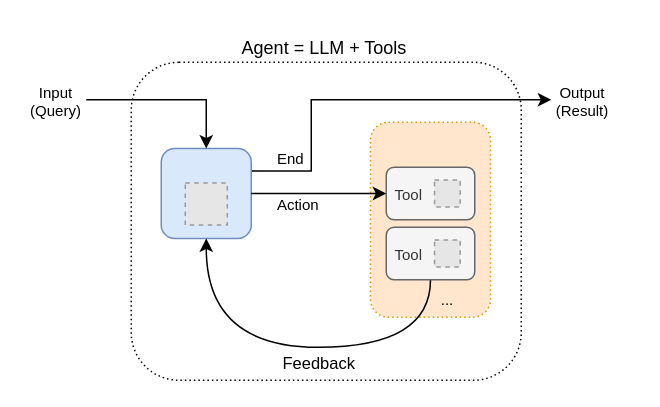
Image size: 660x407. Some labels were removed from this diagram. Grey dashed boxes stand in for pictures. Here are the shapes that lost their labels. From the top down, the box of each, then its label:
(160, 147, 251, 238): LLM
(369, 121, 490, 317): Available tools
